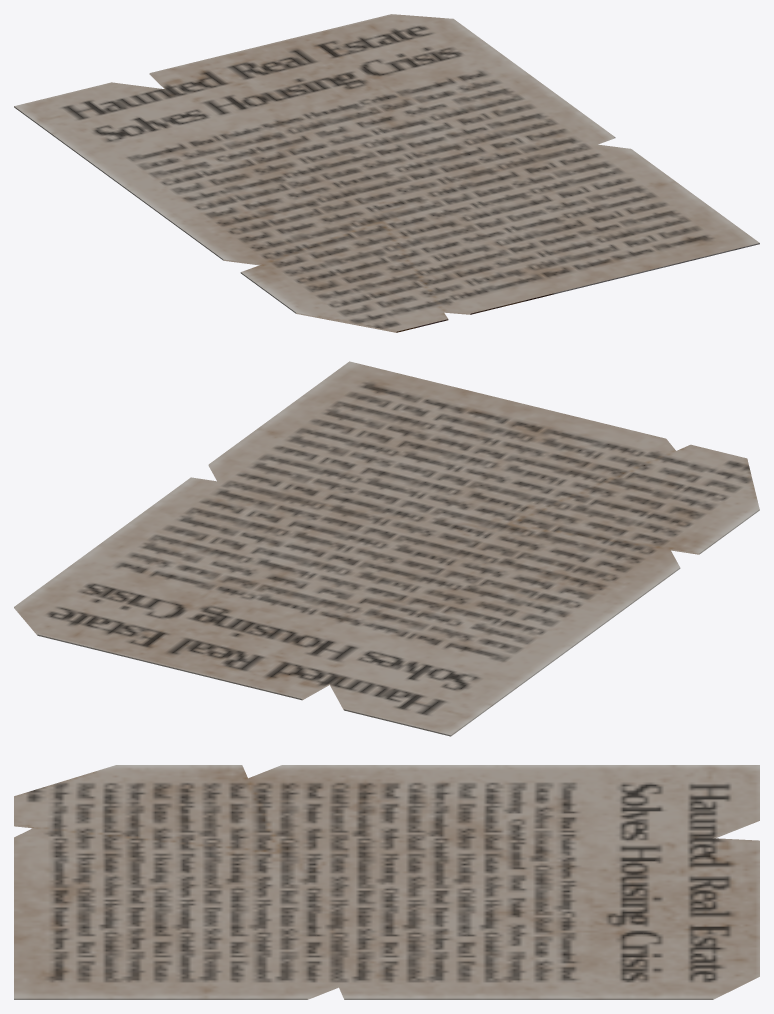
The model's file is SM_PaperDebris_02.fbx.
3 views of the same model, one above another, from view 1: azimuth 30°, elevation 25°; view 2: azimuth 150°, elevation 25°; view 3: azimuth 270°, elevation 25° (orthographic). The views are drawn at different scales.
Parts seen in each view (by area): view 1: SM_PaperDebris_02; view 2: SM_PaperDebris_02; view 3: SM_PaperDebris_02.
Part boxes in pixels (x1,y1,x2,y2): SM_PaperDebris_02: (14, 14, 759, 332); SM_PaperDebris_02: (14, 361, 759, 736); SM_PaperDebris_02: (14, 765, 759, 999).
Bounding box in the file's own units: 17.43 × 23.52 × 0.0459.
1 material, 1 textured.
